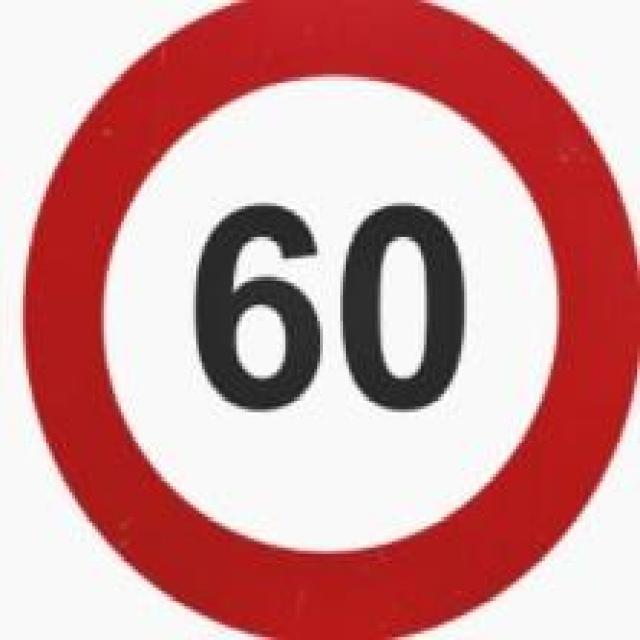speed_limit_60: (26, 3, 626, 637)
